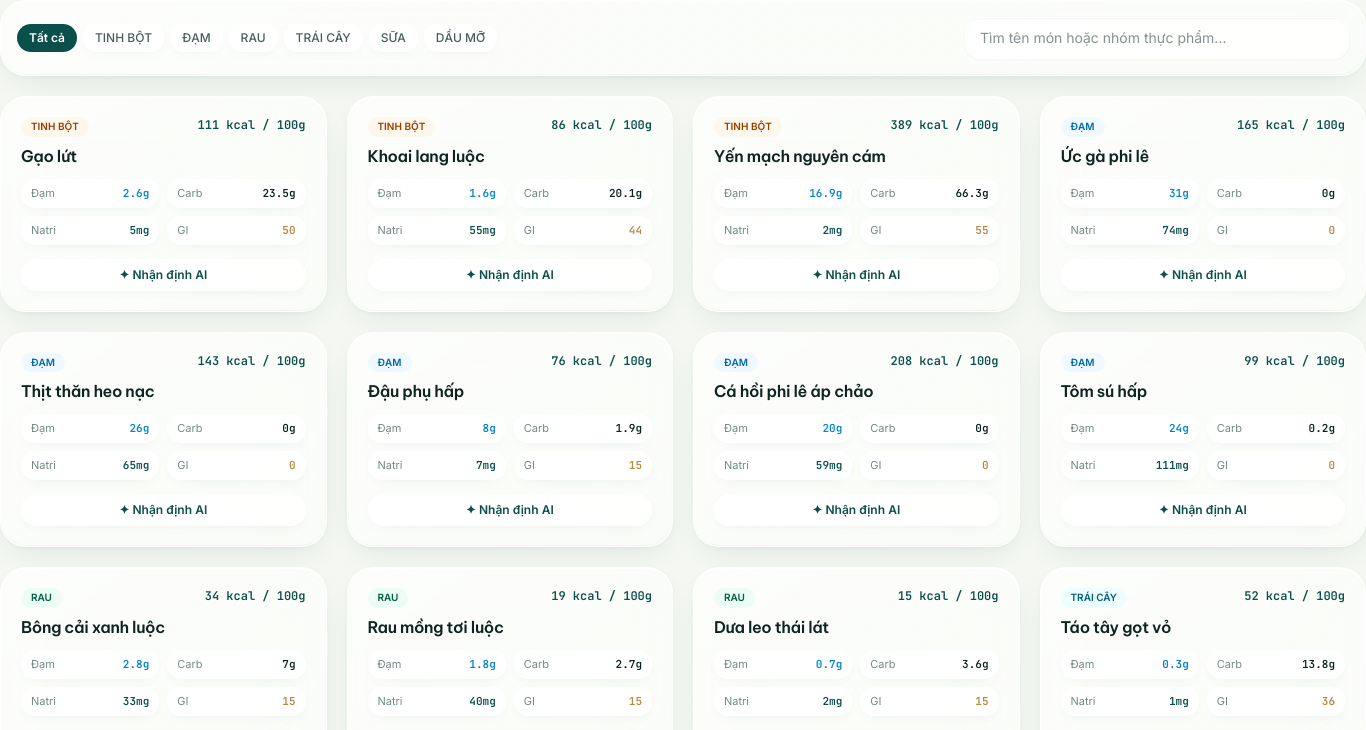
Test: UI › filters foods by name
Type "Gạo" into the field named "Tìm thực phẩm". click: (1157, 38)
box: [965, 17, 1349, 59]
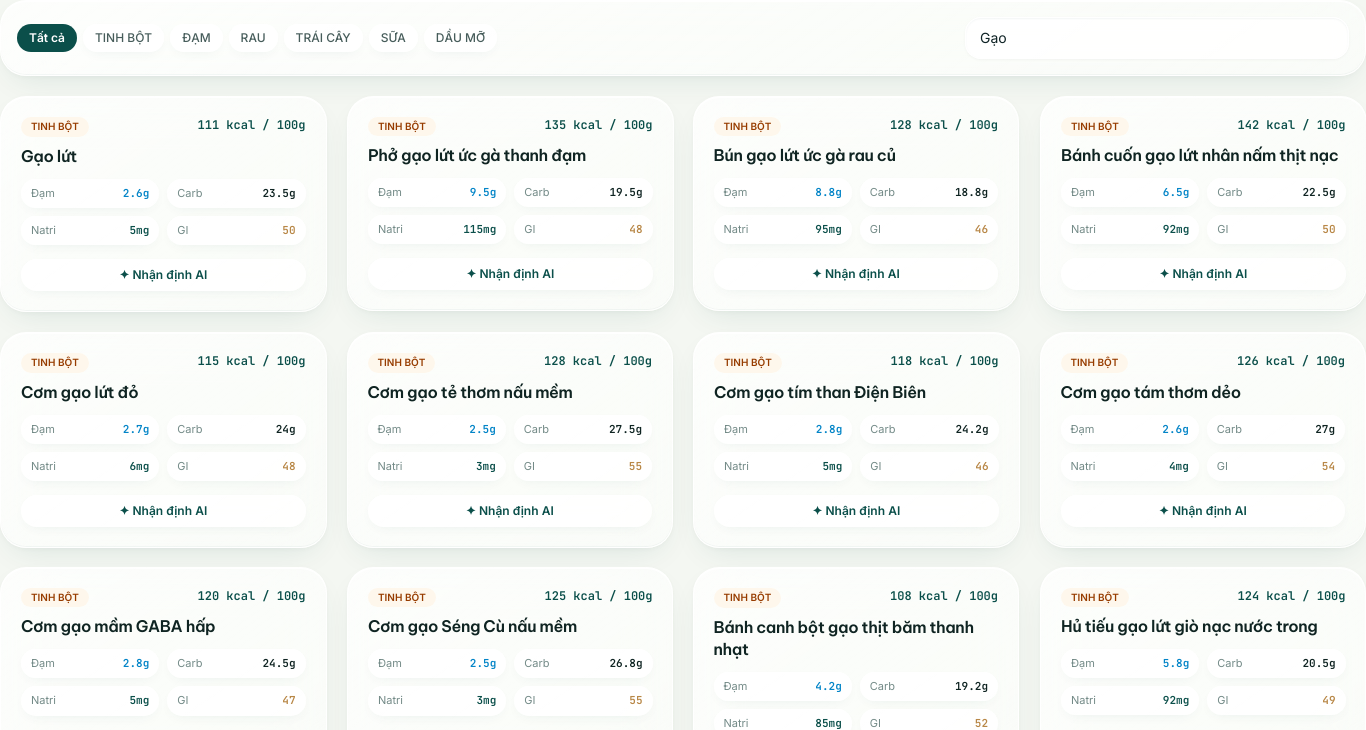
Expected: the heading "Gạo lứt" is shown, [21, 146, 77, 166]
Result: the heading "Táo tây" is gone
